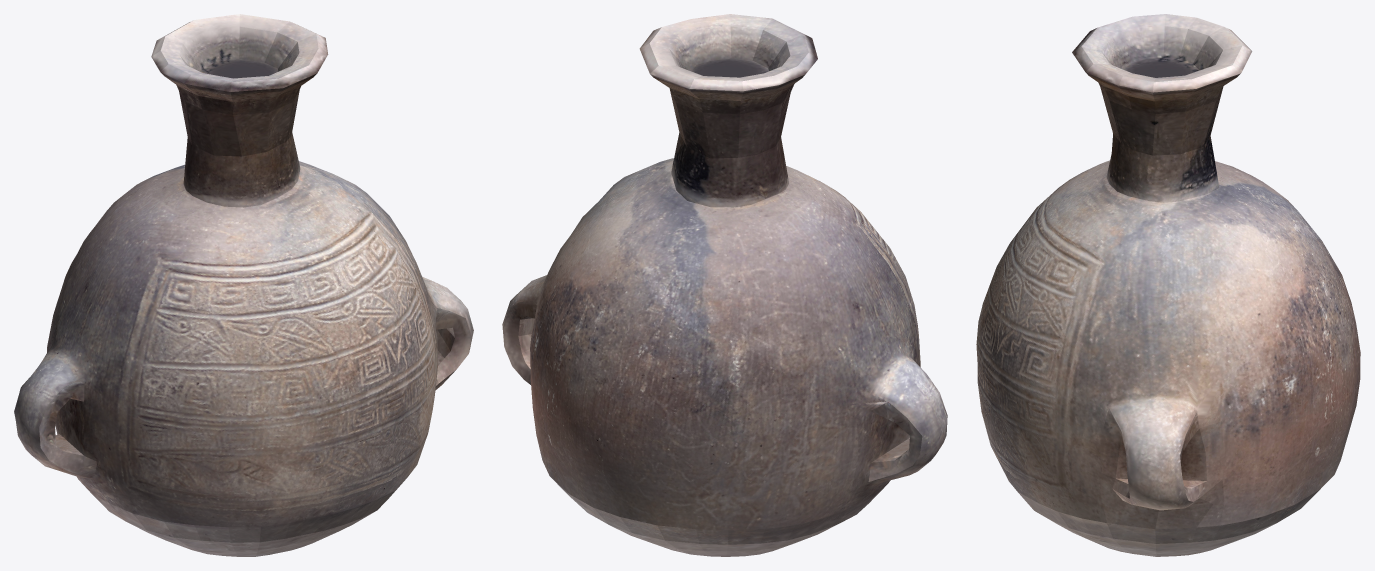
The model's file is objeto09.FBX.
3 renders of one model, left to right at view 1: azimuth 30°, elevation 25°; view 2: azimuth 150°, elevation 25°; view 3: azimuth 270°, elevation 25°, orthographic.
Parts seen in each view (by area): view 1: Box002; view 2: Box002; view 3: Box002.
Boxes of the visible parts, x1,y1,x2,y2 form: Box002: (14,14,473,556); Box002: (502,14,947,556); Box002: (976,14,1360,556).
Size of the model in its own units: 52.47 by 56.38 by 40.22.
